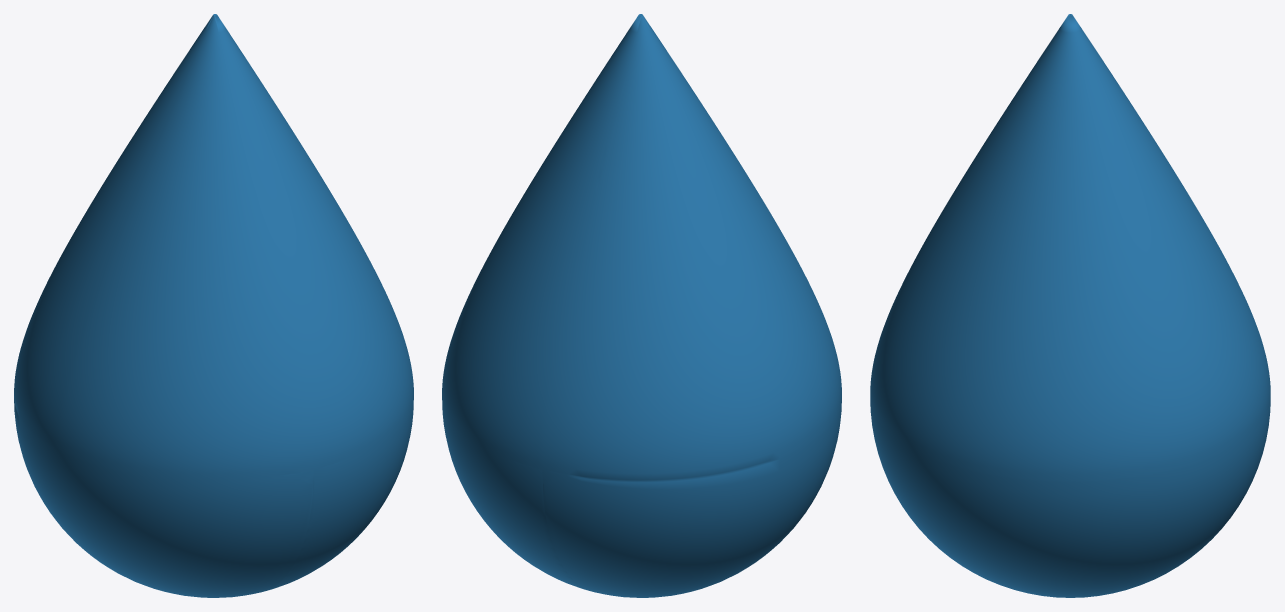
The model's file is water_drop.glb.
3 renders of one model, left to right at view 1: azimuth 30°, elevation 25°; view 2: azimuth 150°, elevation 25°; view 3: azimuth 270°, elevation 25°, orthographic.
Visible parts, largest first — view 1: Object_2; view 2: Object_2; view 3: Object_2.
Part boxes in pixels (bbox=[...]): Object_2: bbox=[14, 14, 413, 597]; Object_2: bbox=[442, 14, 841, 597]; Object_2: bbox=[870, 14, 1270, 597].
Size of the model in its own units: 57.65 by 89.71 by 57.65.
Materials: 1 (1 with a texture image).
